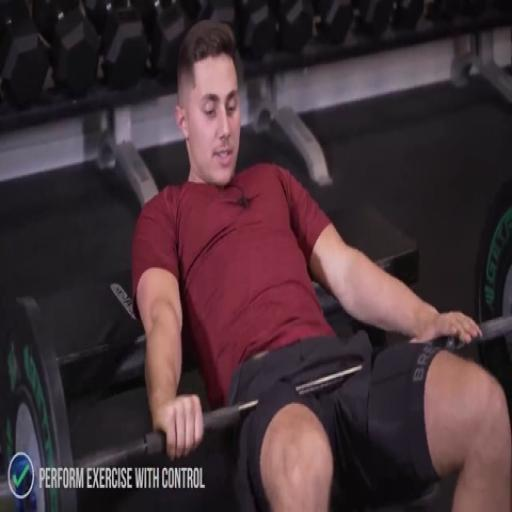exercise: (128, 18, 511, 510)
